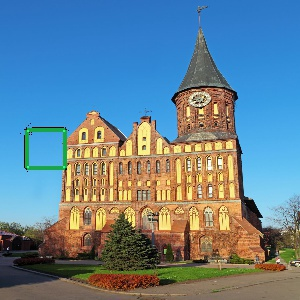square: (23, 126, 68, 171)
